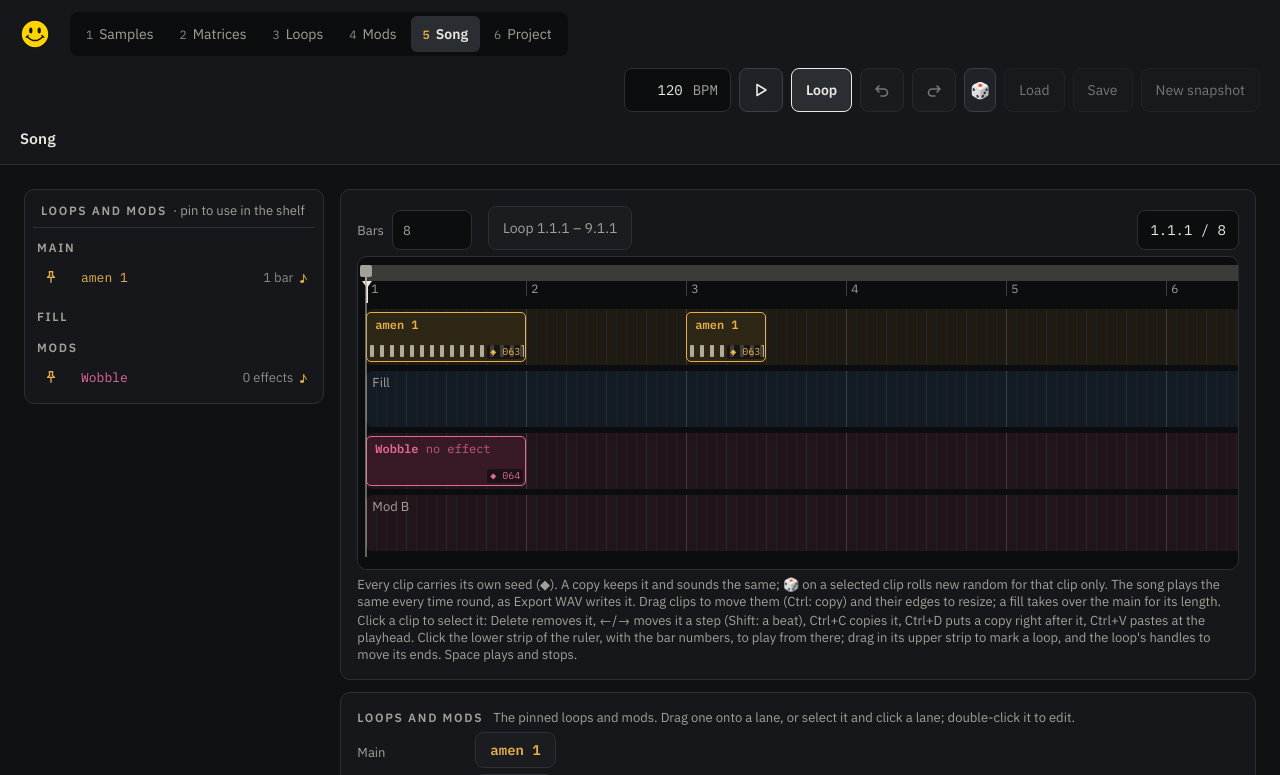
Test: the selected clip’s panel › a shortened copy only shares its seed
This screenshot has width=1280, height=775.
Click the 1st button "amen 1 ◆ 063": (446, 337) [366,312,526,362]
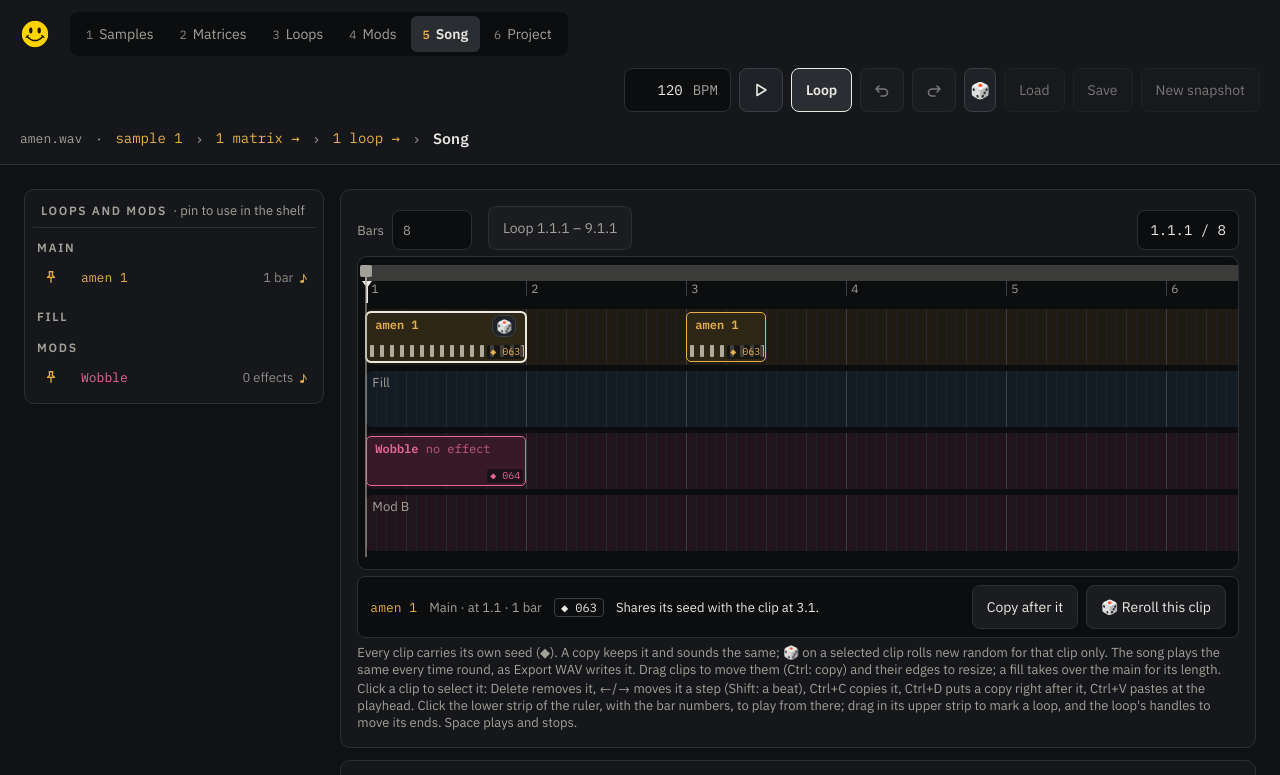
Check: the text "Shares its seed with the clip at 3.1." is shown, box [616,598,819,616]
